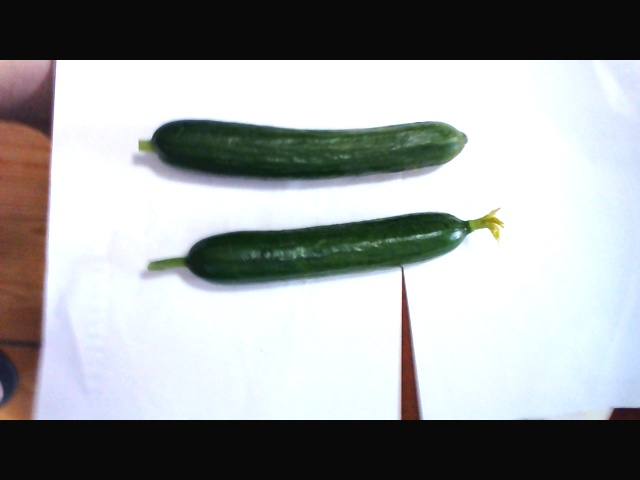cucumber: (148, 211, 510, 285), (123, 114, 481, 184)
